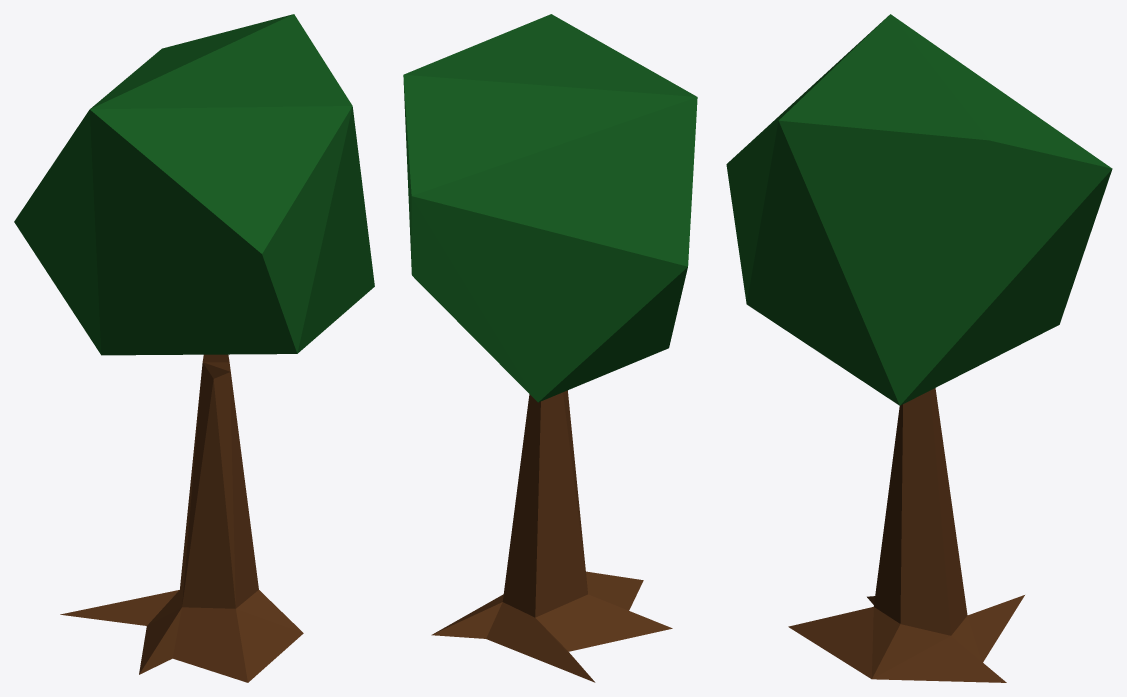
The model's file is treelowpoly.fbx.
3 renders of one model, left to right at view 1: azimuth 30°, elevation 25°; view 2: azimuth 150°, elevation 25°; view 3: azimuth 270°, elevation 25°, orthographic. The views are drawn at different scales.
Parts seen in each view (by area): view 1: Sphere.007, Cylinder; view 2: Sphere.007, Cylinder; view 3: Sphere.007, Cylinder.
Part boxes in pixels (bbox=[...]): Sphere.007: bbox=[14, 14, 374, 355]; Cylinder: bbox=[60, 354, 303, 682]; Sphere.007: bbox=[403, 14, 697, 402]; Cylinder: bbox=[431, 390, 672, 682]; Sphere.007: bbox=[726, 14, 1112, 405]; Cylinder: bbox=[788, 388, 1024, 682].
Size of the model in its own units: 1049 by 1763 by 1089.
